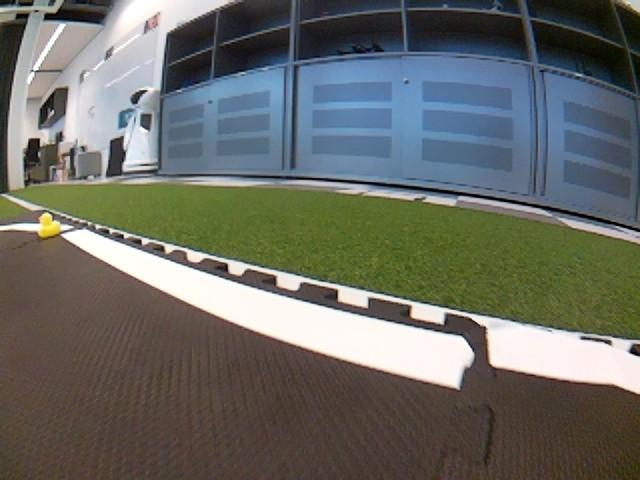Duckies: (37, 212, 61, 240)
